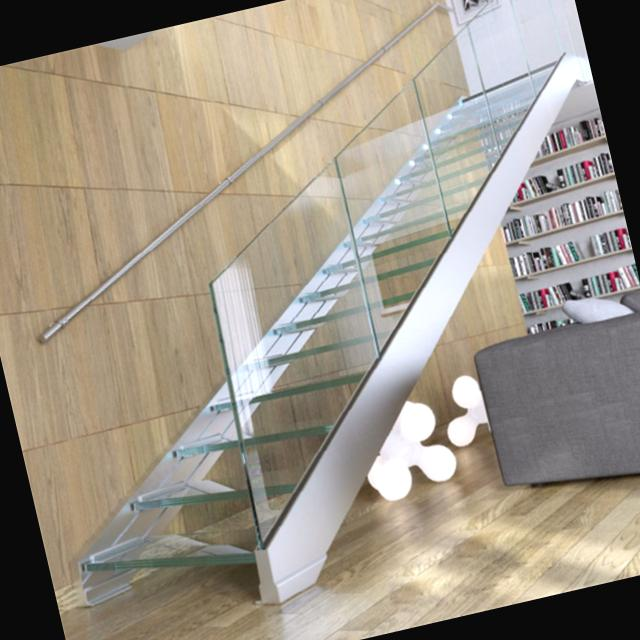Stairs: (21, 0, 596, 629)
